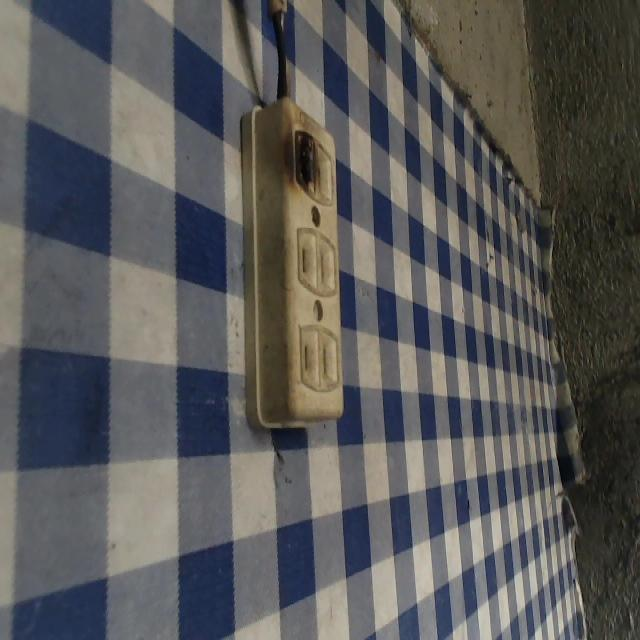-: (277, 114, 323, 202)
